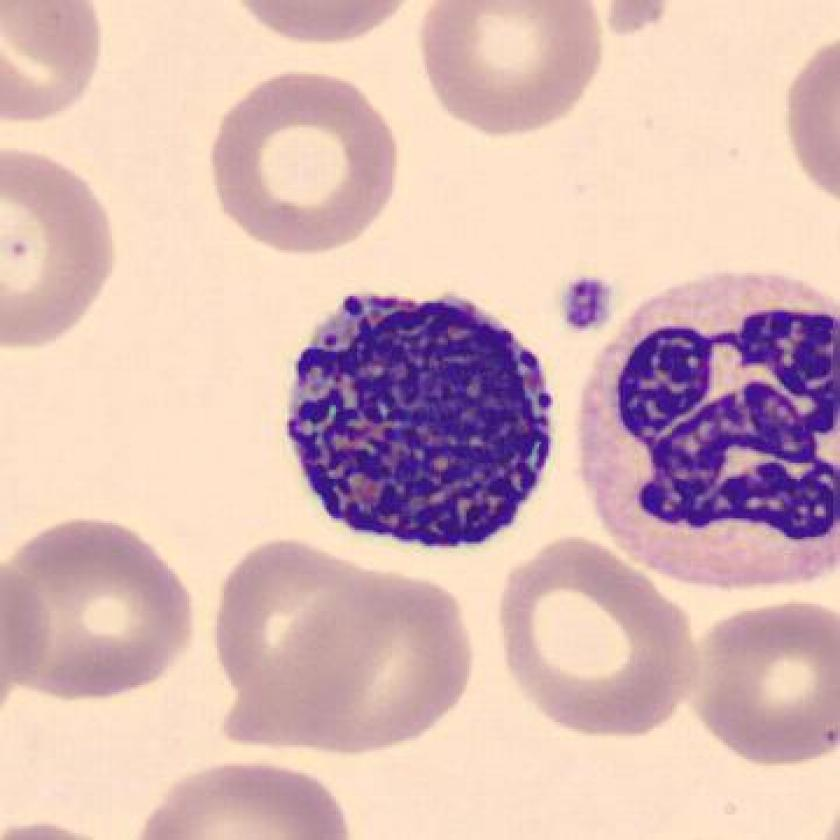basophil: (570, 258, 840, 579), (276, 295, 568, 556)
